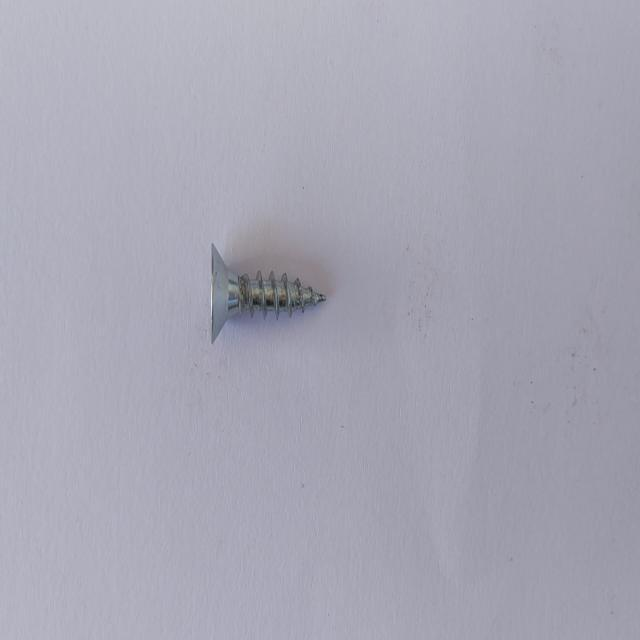Screw: (211, 242, 326, 342)
